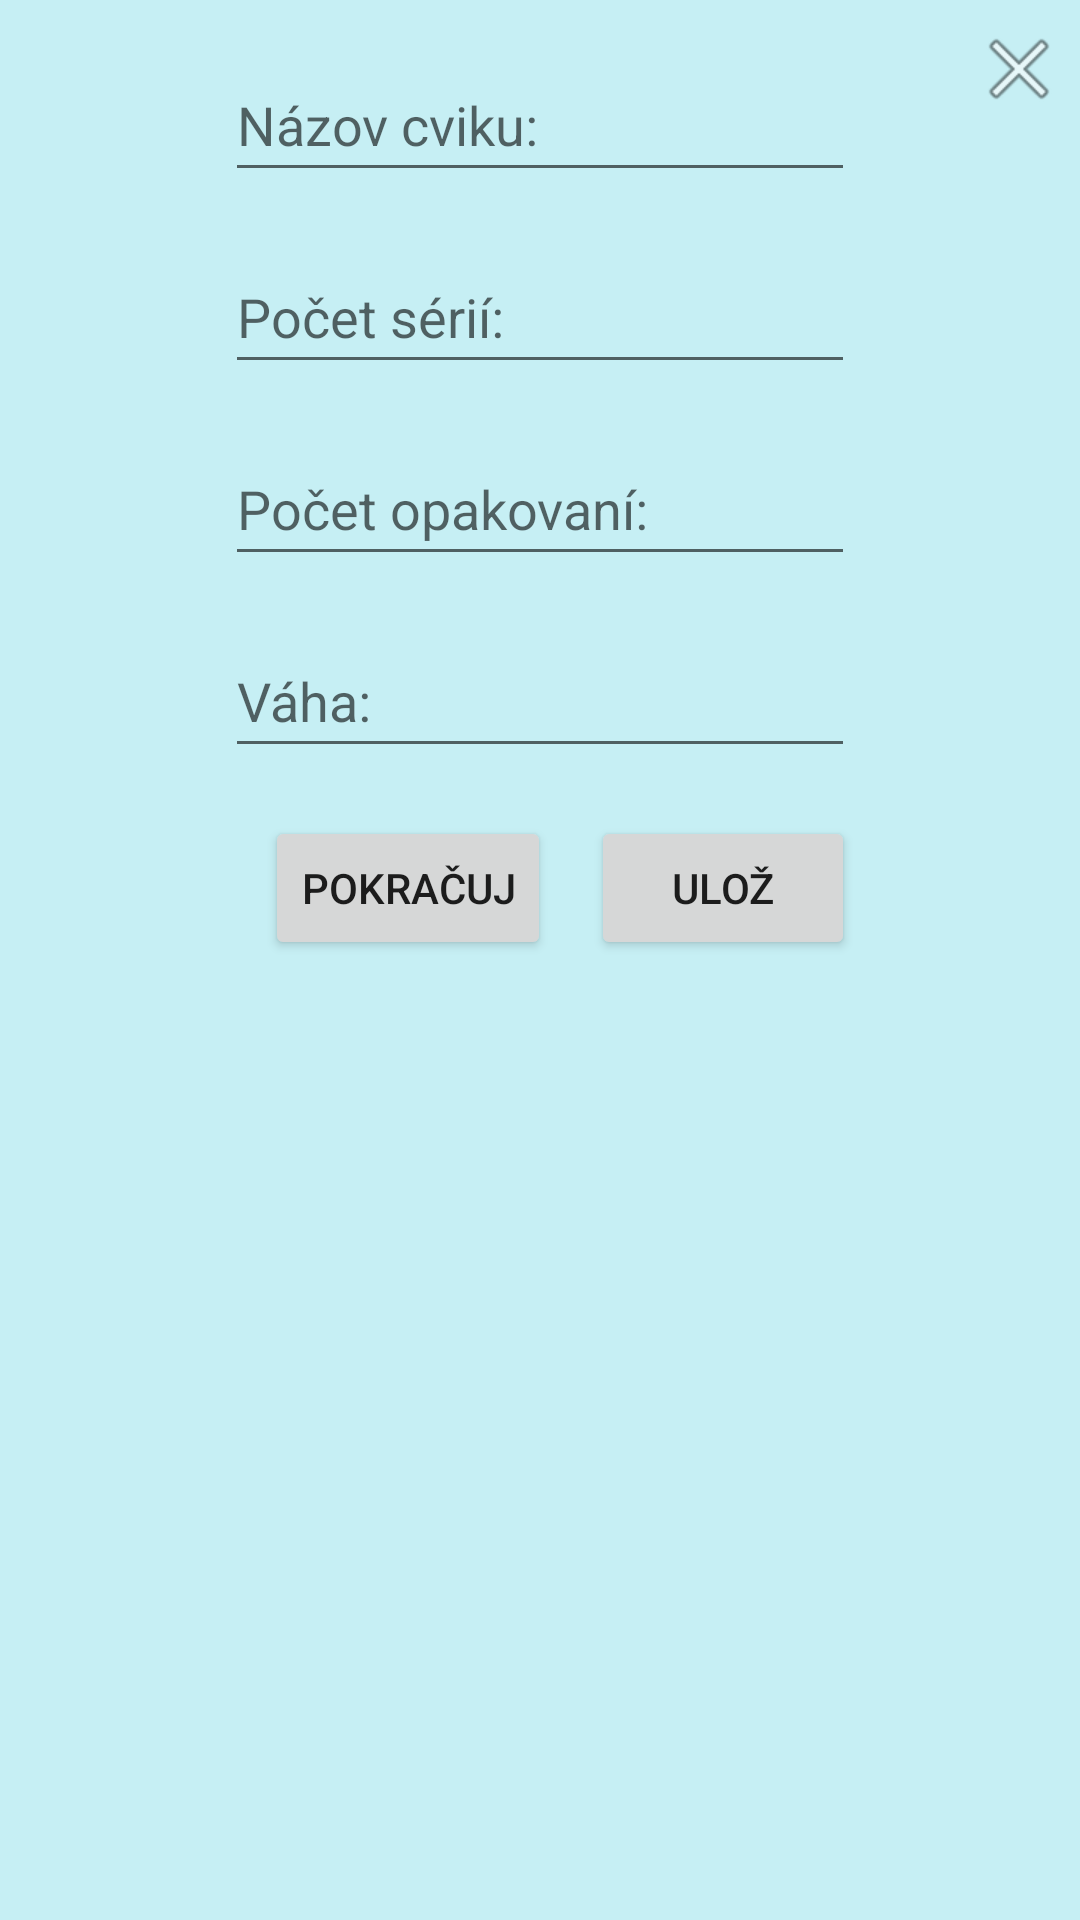

Where icons sit on this 1080px x 1920px app screen, as (x1, y1, x2, y2):
close clear cancel: (989, 39, 1049, 99)
